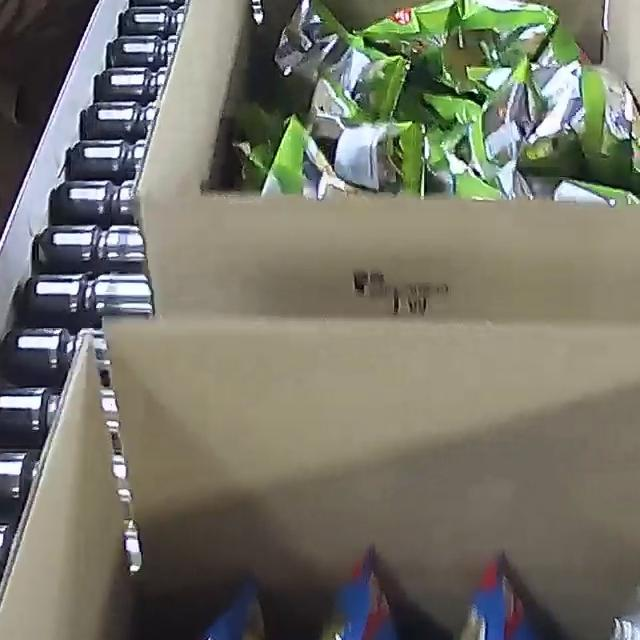paprika: (100, 502, 640, 640)
yogurt: (242, 0, 640, 202)
